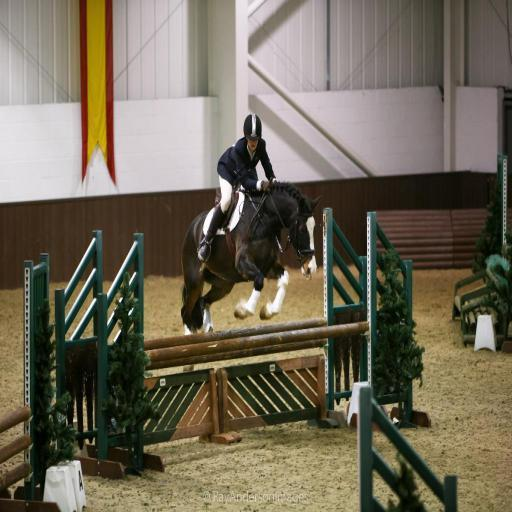horse: (178, 177, 322, 341)
